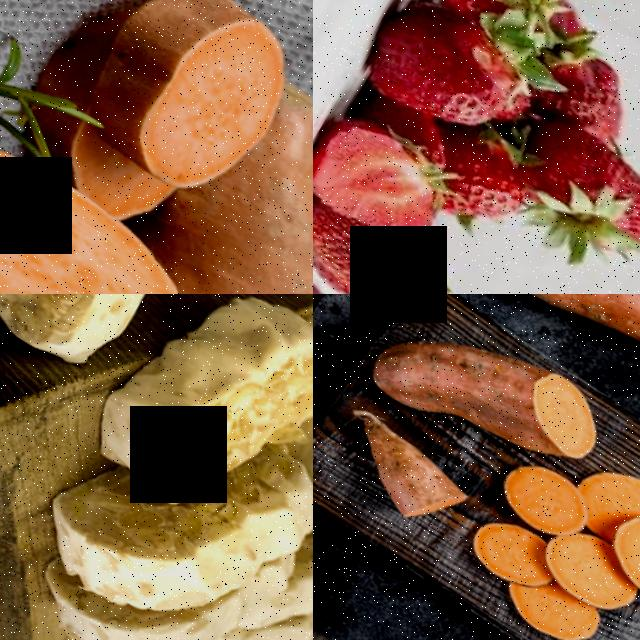strawberry: (351, 0, 532, 138), (313, 98, 464, 241), (518, 109, 640, 262), (313, 178, 440, 294), (435, 134, 536, 239), (403, 0, 527, 30)
sweet potato: (94, 0, 313, 206), (0, 107, 239, 294), (385, 294, 621, 478), (369, 294, 640, 445), (193, 70, 313, 294), (322, 402, 480, 535), (490, 443, 601, 546), (534, 525, 640, 619), (461, 500, 554, 589), (522, 573, 611, 640), (596, 492, 640, 616)
tempeh: (101, 294, 313, 532), (33, 443, 253, 639)
